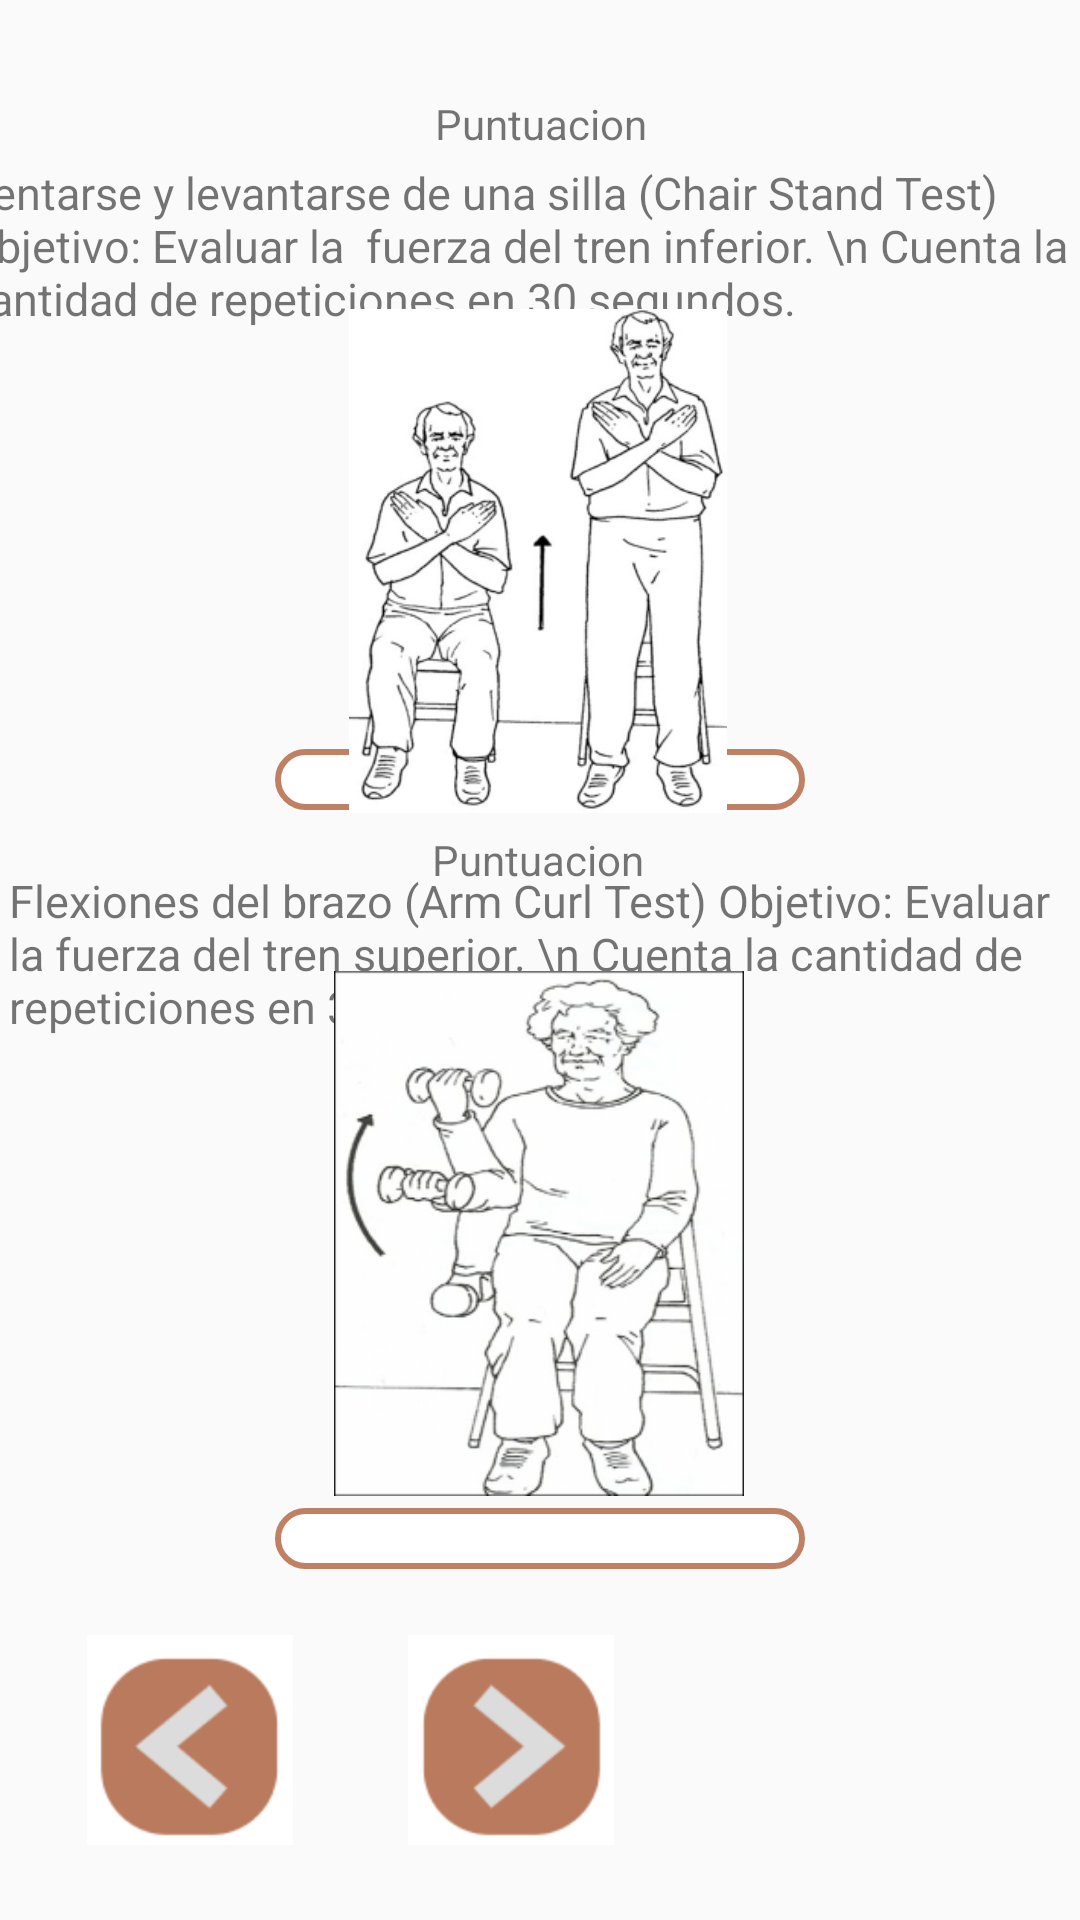

Where icons sit on this 1080w x 1920h app screen, as (x1, y1, x2, y2):
regresar: (100, 1658, 278, 1836)
seguir: (423, 1658, 601, 1836)
